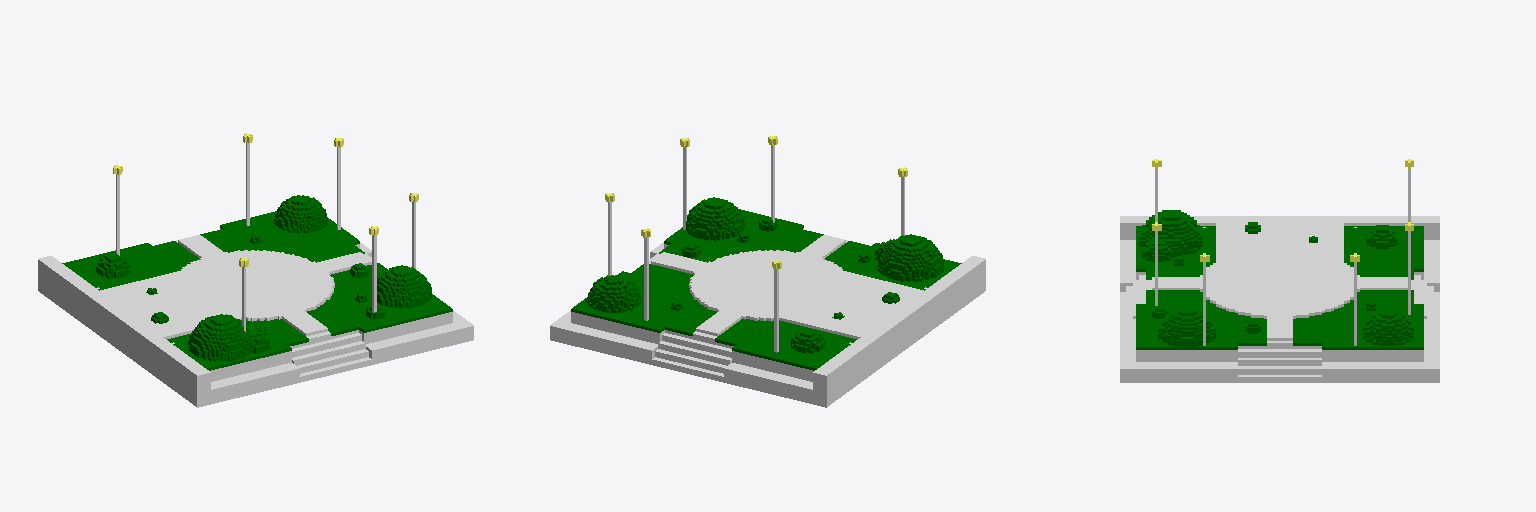
3 views of the same model, side by side, from view 1: azimuth 30°, elevation 25°; view 2: azimuth 150°, elevation 25°; view 3: azimuth 270°, elevation 25° (orthographic).
Parts seen in each view (by area): view 1: Plaza; view 2: Plaza; view 3: Plaza.
Part boxes in pixels (left/top/right/bottom): Plaza: left=38, top=133, right=473, bottom=407; Plaza: left=550, top=136, right=985, bottom=407; Plaza: left=1120, top=159, right=1439, bottom=382.
Size of the model in its own units: 10 by 4.1 by 10.
Materials: 1 (1 with a texture image).